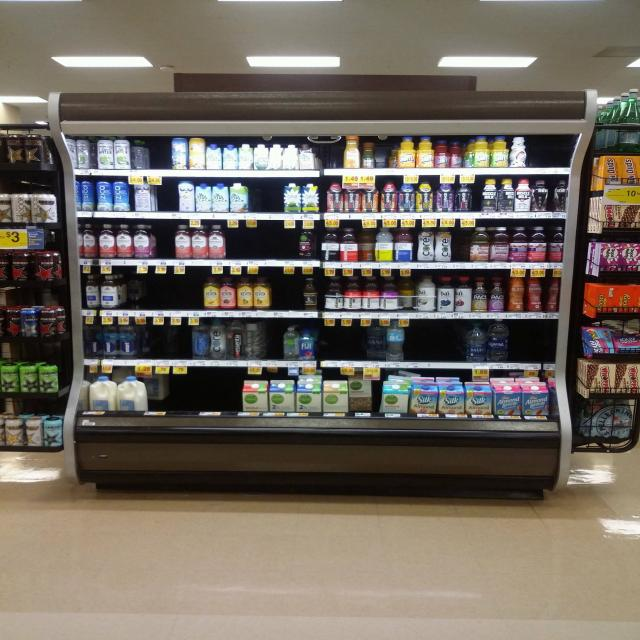void: (518, 321, 556, 371), (204, 369, 235, 420), (432, 318, 462, 370), (174, 269, 200, 320), (272, 272, 300, 318), (175, 372, 200, 418), (147, 270, 169, 320), (407, 322, 429, 372), (253, 182, 280, 222), (273, 226, 298, 269), (140, 322, 164, 366), (341, 322, 362, 370), (317, 322, 337, 370), (252, 226, 272, 270), (171, 322, 190, 368), (156, 179, 176, 222), (452, 221, 468, 270), (230, 227, 248, 270), (155, 224, 171, 268), (151, 137, 168, 176), (319, 136, 335, 176), (554, 134, 569, 175), (535, 136, 551, 174), (379, 134, 393, 176)
